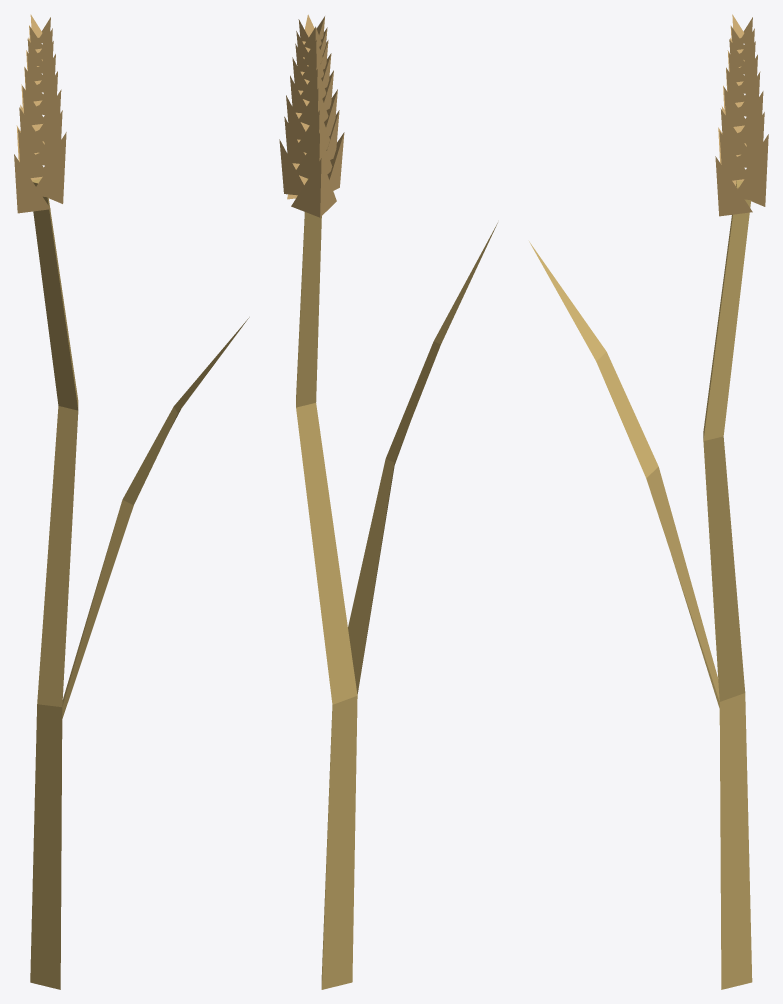
The model's file is wheat1.fbx.
The picture shows the model from 3 angles, left to right: view 1: azimuth 90°, elevation 25°; view 2: azimuth 150°, elevation 25°; view 3: azimuth 270°, elevation 25°; orthographic projection.
Parts seen in each view (by area): view 1: Cylinder.004; view 2: Cylinder.004; view 3: Cylinder.004.
Part boxes in pixels (x1,y1,x2,y2): Cylinder.004: (14, 14, 249, 989); Cylinder.004: (279, 14, 497, 989); Cylinder.004: (529, 14, 768, 989).
Bounding box in the file's own units: 6.58 × 52.1 × 11.69.
